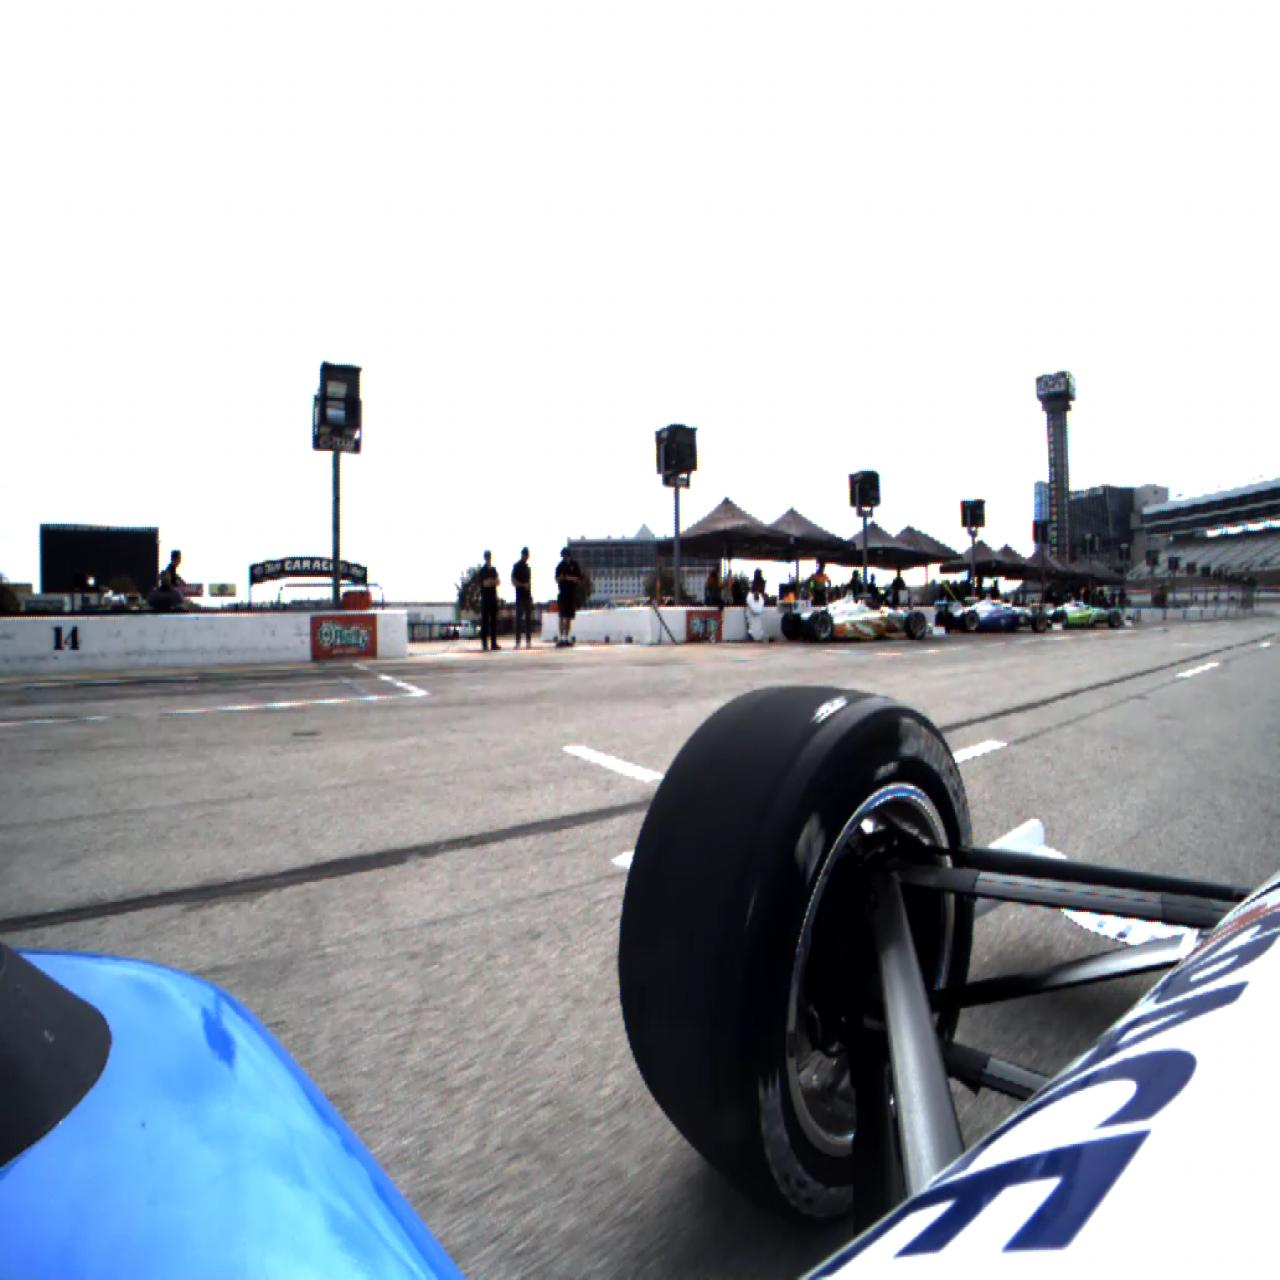AV: (781, 584, 928, 644), (935, 586, 1047, 634), (1047, 594, 1124, 631)
Wheel: (619, 686, 977, 1224), (808, 610, 834, 643), (905, 611, 926, 640), (782, 612, 802, 641), (935, 610, 953, 634), (963, 610, 980, 634), (1031, 610, 1047, 634), (1053, 609, 1069, 629), (1107, 609, 1122, 630)
